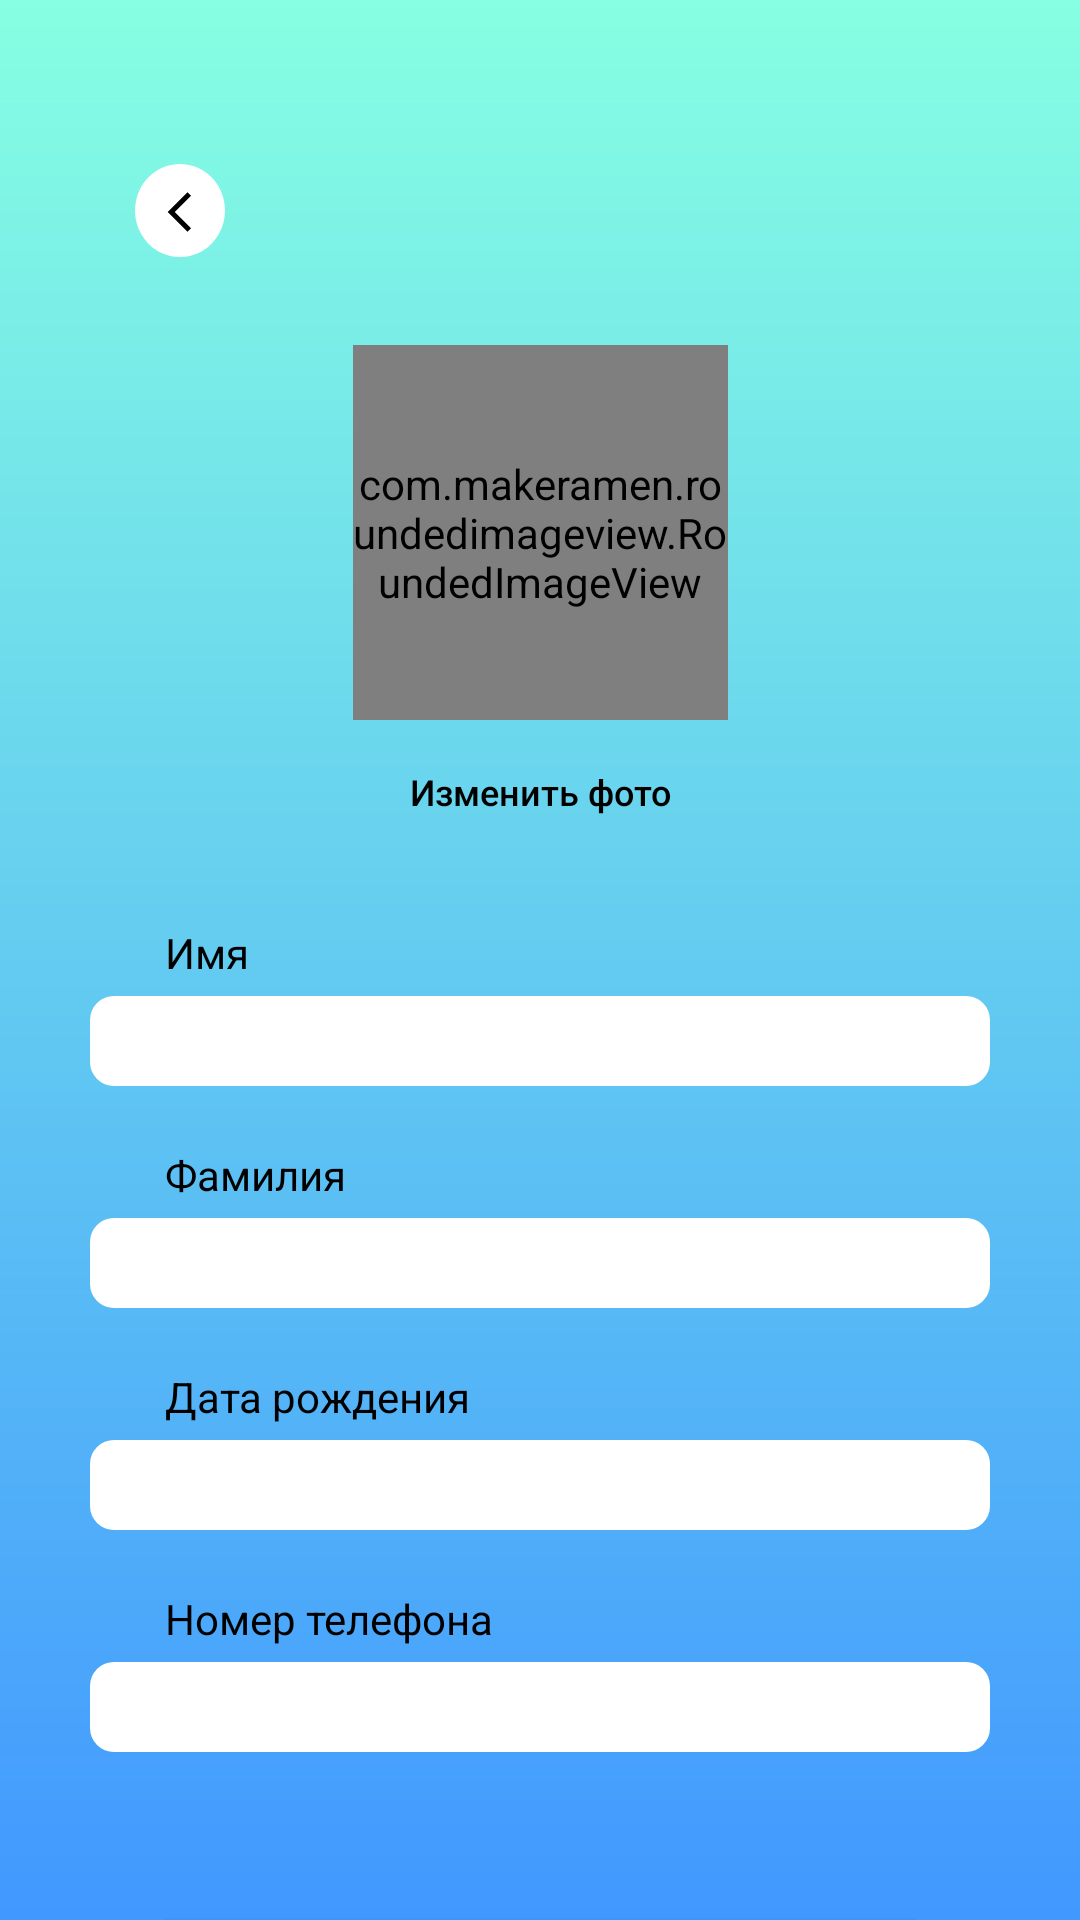

Icon click points for this 1080*1920 phone screenshot, format (x=x, y=y):
back profile: (x=180, y=210)
